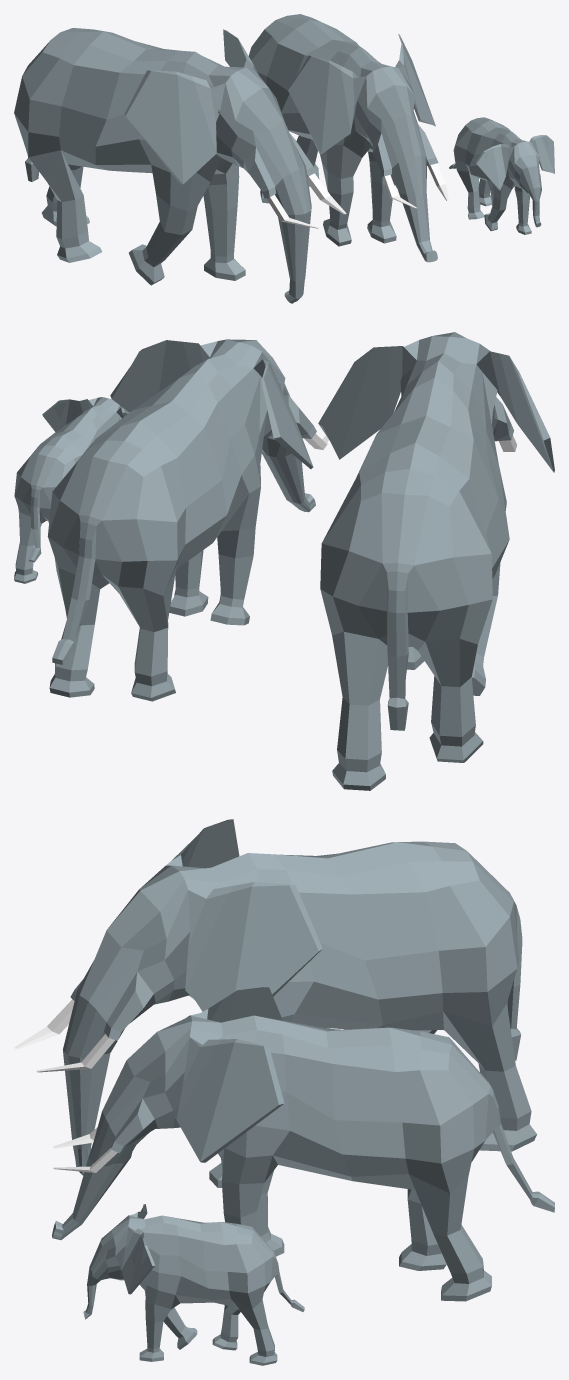
File: Elefant.fbx
3 renders of one model, top to bottom at view 1: azimuth 30°, elevation 25°; view 2: azimuth 150°, elevation 25°; view 3: azimuth 270°, elevation 25°, orthographic. The views are drawn at different scales.
Parts seen in each view (by area): view 1: Elefant1, Elefant2, Elefant3; view 2: Elefant1, Elefant2, Elefant3; view 3: Elefant1, Elefant2, Elefant3.
Part boxes in pixels (x1=…): Elefant1: x1=14, y1=28, x2=346, y2=303; Elefant2: x1=248, y1=14, x2=448, y2=262; Elefant3: x1=449, y1=117, x2=554, y2=234; Elefant1: x1=318, y1=332, x2=554, y2=790; Elefant2: x1=47, y1=339, x2=328, y2=701; Elefant3: x1=14, y1=397, x2=128, y2=583; Elefant1: x1=14, y1=819, x2=536, y2=1187; Elefant2: x1=52, y1=987, x2=554, y2=1301; Elefant3: x1=83, y1=1204, x2=304, y2=1365.
Size of the model in its own units: 7.97 by 4.15 by 6.38.
